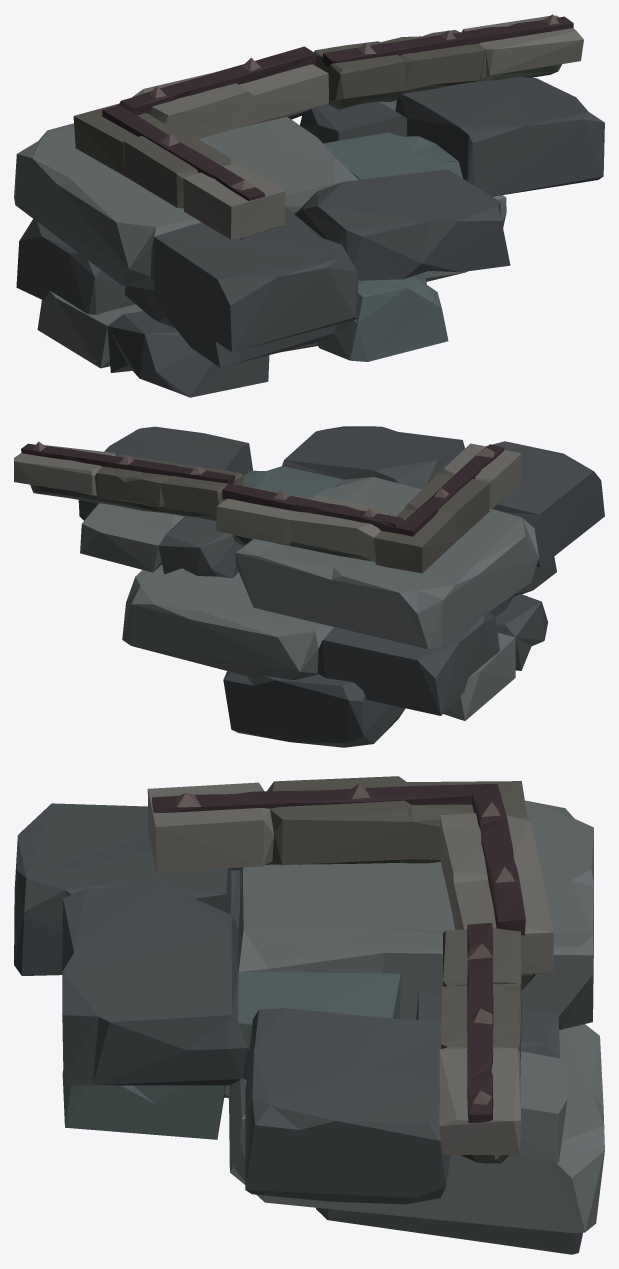
The model's file is MDungenon_StoneFloor_MBorder_CornerBroken.FBX.
The picture shows the model from 3 angles, top to bottom: view 1: azimuth 30°, elevation 25°; view 2: azimuth 150°, elevation 25°; view 3: azimuth 270°, elevation 25°; orthographic projection. The views are drawn at different scales.
Visible parts, largest first — view 1: MDungenon_StoneFloor_MBorder_CornerBroken_LOD0; view 2: MDungenon_StoneFloor_MBorder_CornerBroken_LOD0; view 3: MDungenon_StoneFloor_MBorder_CornerBroken_LOD0.
Boxes of the visible parts, x1,y1,x2,y2 form: MDungenon_StoneFloor_MBorder_CornerBroken_LOD0: [14, 14, 604, 397]; MDungenon_StoneFloor_MBorder_CornerBroken_LOD0: [14, 426, 604, 747]; MDungenon_StoneFloor_MBorder_CornerBroken_LOD0: [14, 776, 604, 1254].
Size of what is drawn, in the model's own units: 6.02 by 2.99 by 4.31.
